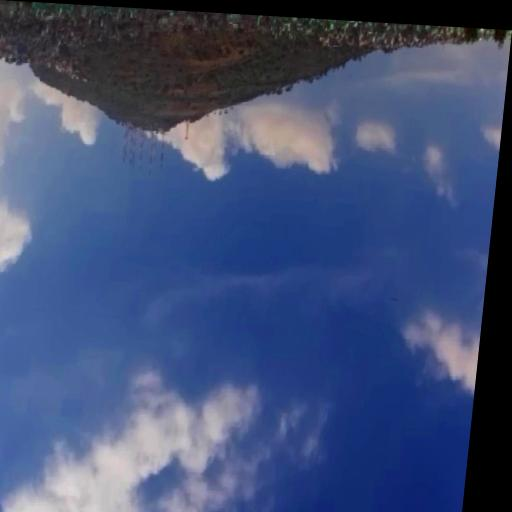drones: (388, 294, 400, 305)
